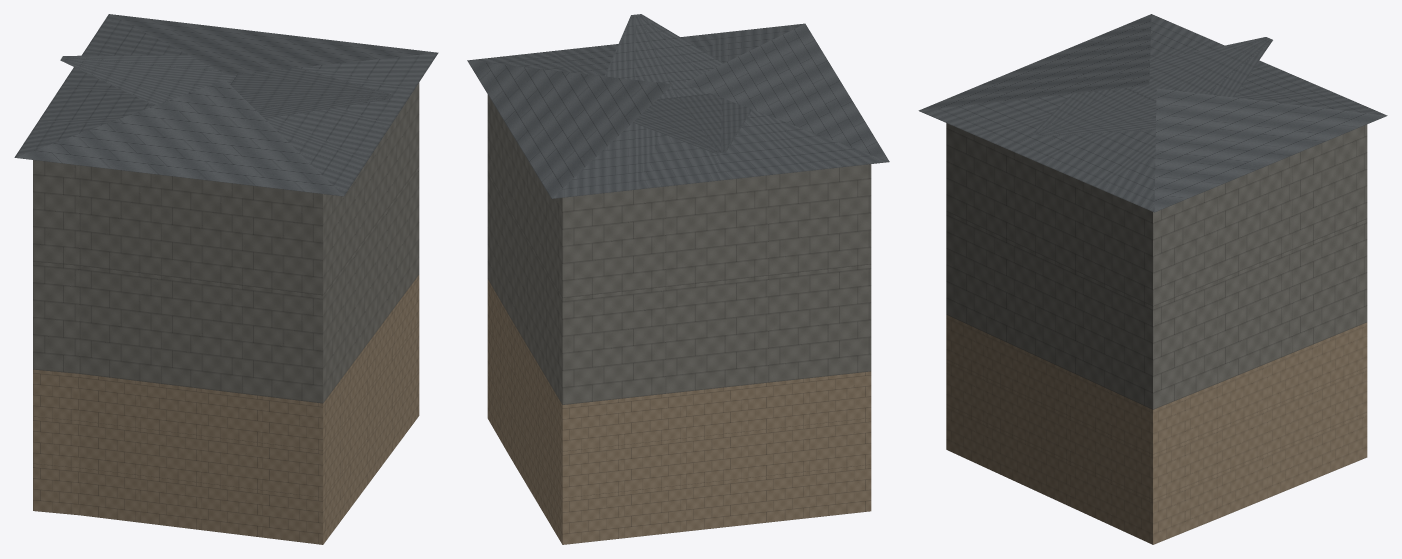
File: bld_c5_9_483.gltf
The picture shows the model from 3 angles, left to right: view 1: azimuth 30°, elevation 25°; view 2: azimuth 150°, elevation 25°; view 3: azimuth 270°, elevation 25°; orthographic projection. The views are drawn at different scales.
Parts seen in each view (by area): view 1: bld_c5_9_483; view 2: bld_c5_9_483; view 3: bld_c5_9_483.
Boxes of the visible parts, left/top/right/bottom form: bld_c5_9_483: left=14, top=14, right=438, bottom=544; bld_c5_9_483: left=467, top=14, right=889, bottom=544; bld_c5_9_483: left=918, top=14, right=1387, bottom=544.
Bounding box in the file's own units: 16.07 × 13.9 × 16.07.
3 materials, 3 textured.
